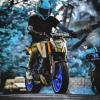motorcycles: (25, 35, 74, 96)
